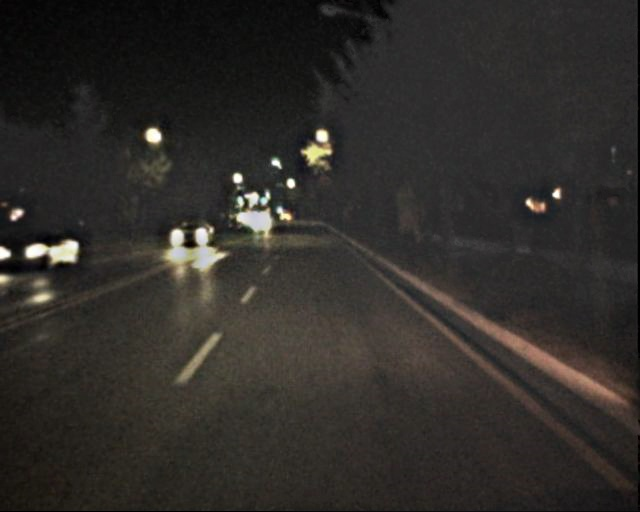person: (512, 203, 538, 274)
